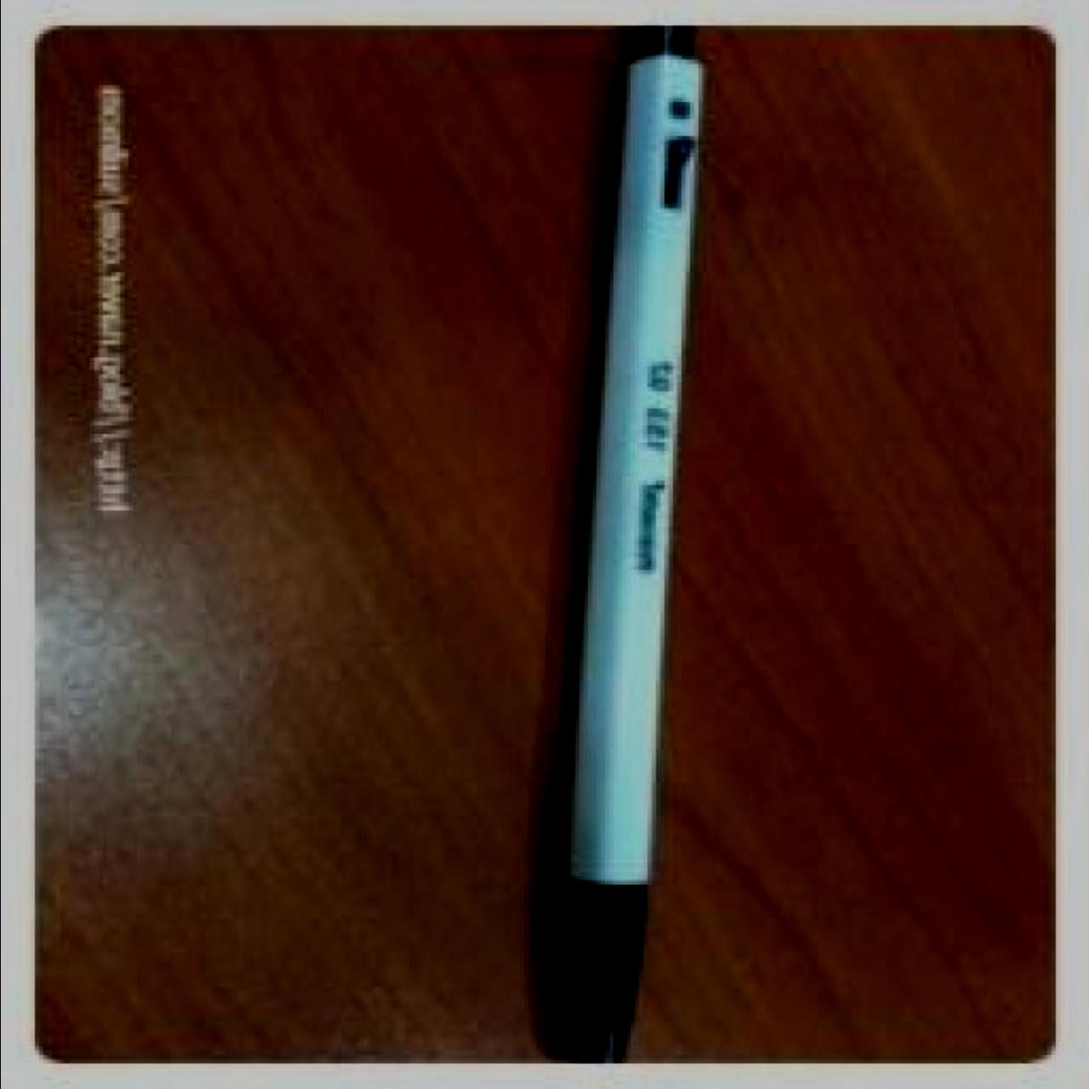pen: (551, 26, 718, 1060)
